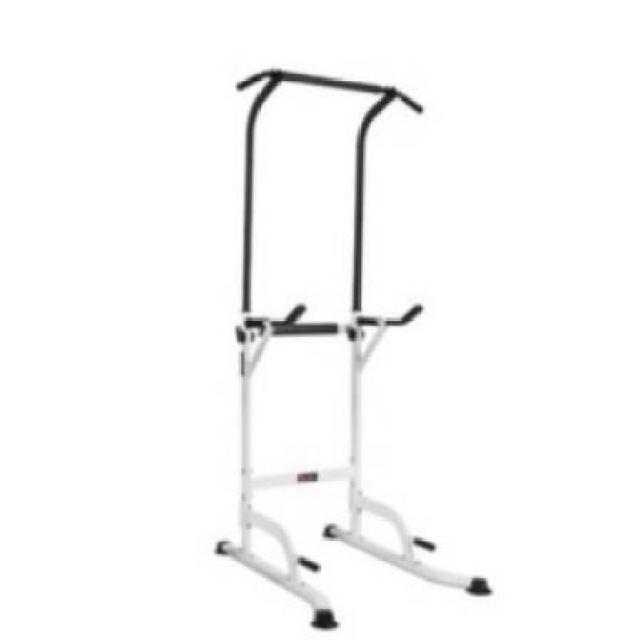chinning dipping: (214, 66, 495, 632)
